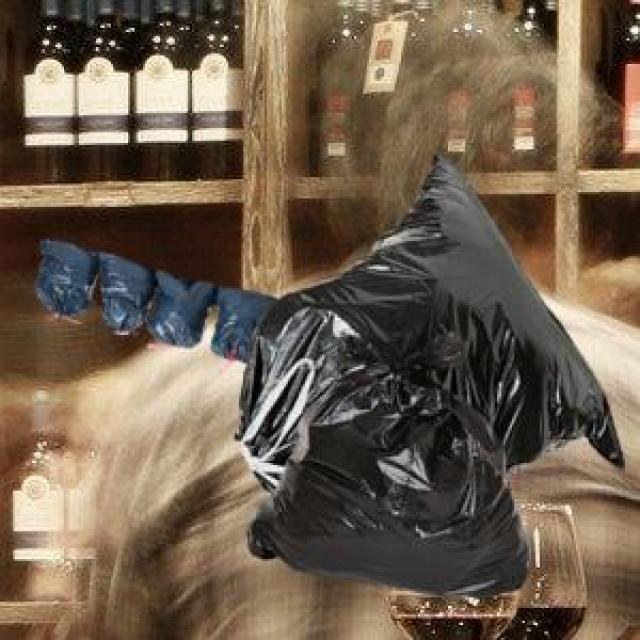waste: (36, 161, 624, 596)
